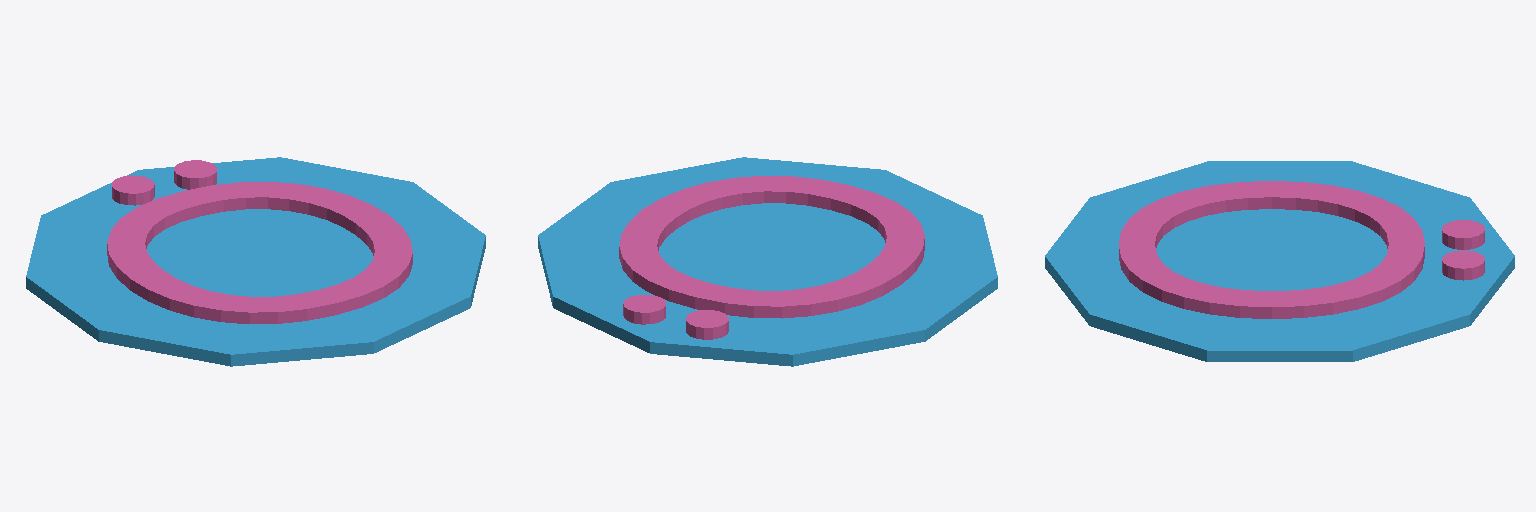
3 views of the same model, side by side, from view 1: azimuth 30°, elevation 25°; view 2: azimuth 150°, elevation 25°; view 3: azimuth 270°, elevation 25° (orthographic).
Visible parts, largest first — view 1: Mesh4 Model, Mesh1 _1 Model, Mesh2 _1 Model, Mesh3 _1 Model; view 2: Mesh4 Model, Mesh1 _1 Model, Mesh2 _1 Model, Mesh3 _1 Model; view 3: Mesh4 Model, Mesh1 _1 Model, Mesh2 _1 Model, Mesh3 _1 Model.
Boxes of the visible parts, x1=… form: Mesh4 Model: x1=26, y1=157, x2=485, y2=366; Mesh1 _1 Model: x1=107, y1=182, x2=412, y2=323; Mesh2 _1 Model: x1=112, y1=175, x2=154, y2=205; Mesh3 _1 Model: x1=174, y1=160, x2=216, y2=189; Mesh4 Model: x1=538, y1=157, x2=997, y2=366; Mesh1 _1 Model: x1=619, y1=176, x2=924, y2=318; Mesh2 _1 Model: x1=686, y1=310, x2=728, y2=339; Mesh3 _1 Model: x1=623, y1=295, x2=665, y2=324; Mesh4 Model: x1=1045, y1=161, x2=1514, y2=361; Mesh1 _1 Model: x1=1119, y1=181, x2=1424, y2=318; Mesh2 _1 Model: x1=1442, y1=220, x2=1484, y2=249; Mesh3 _1 Model: x1=1442, y1=250, x2=1484, y2=280.
Size of the model in its own units: 0.2739 by 0.016 by 0.288.
Materials: 2 (2 with a texture image).